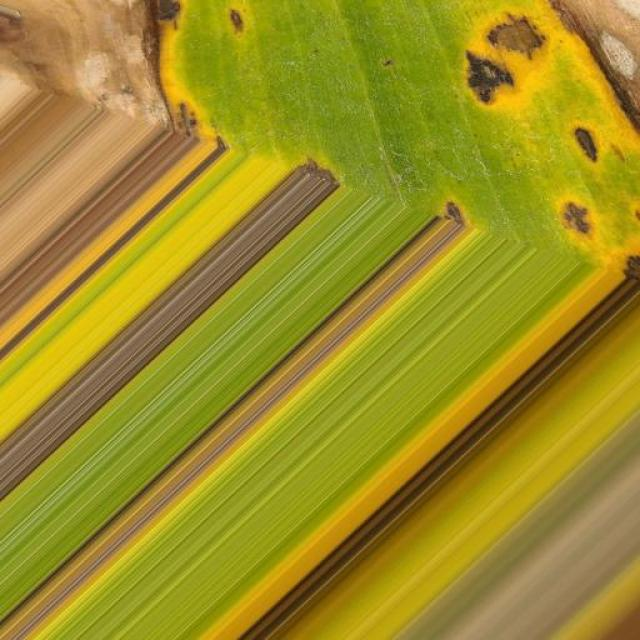Early_rust: (0, 0, 640, 340)
